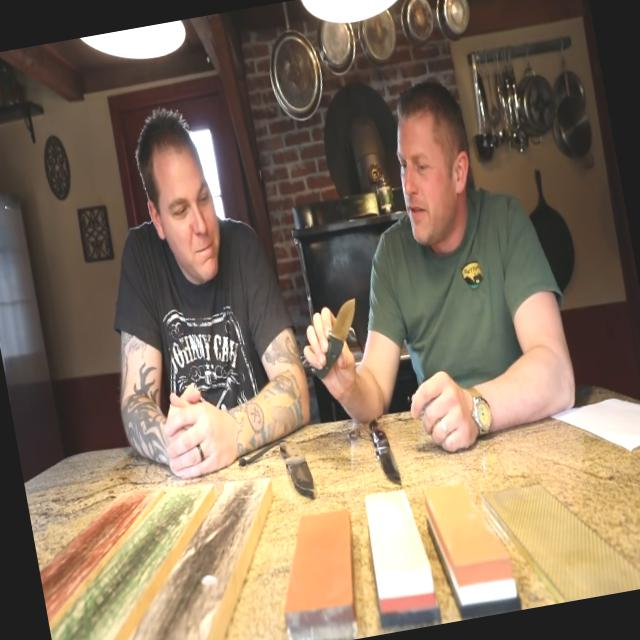knife: (292, 282, 377, 384)
